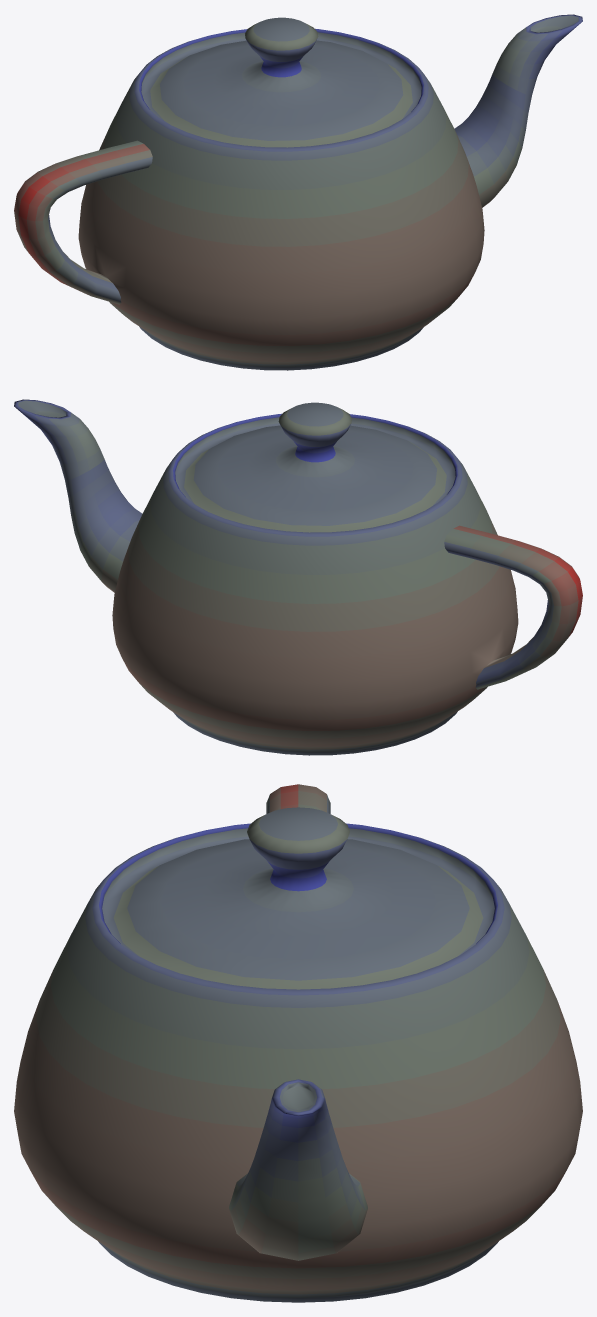
The model's file is teapot.fbx.
3 views of the same model, one above another, from view 1: azimuth 30°, elevation 25°; view 2: azimuth 150°, elevation 25°; view 3: azimuth 270°, elevation 25° (orthographic). The views are drawn at different scales.
Visible parts, largest first — view 1: Mesh; view 2: Mesh; view 3: Mesh.
Boxes of the visible parts, x1,y1,x2,y2 form: Mesh: (14, 14, 582, 370); Mesh: (14, 399, 582, 755); Mesh: (14, 784, 582, 1302).
Size of the model in its own units: 197 by 96.61 by 123.
